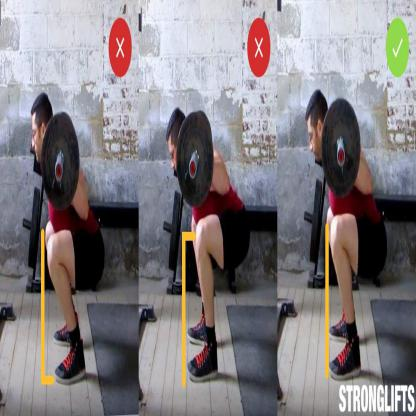Barbell: (37, 107, 83, 212), (172, 106, 216, 212), (320, 90, 362, 198)
